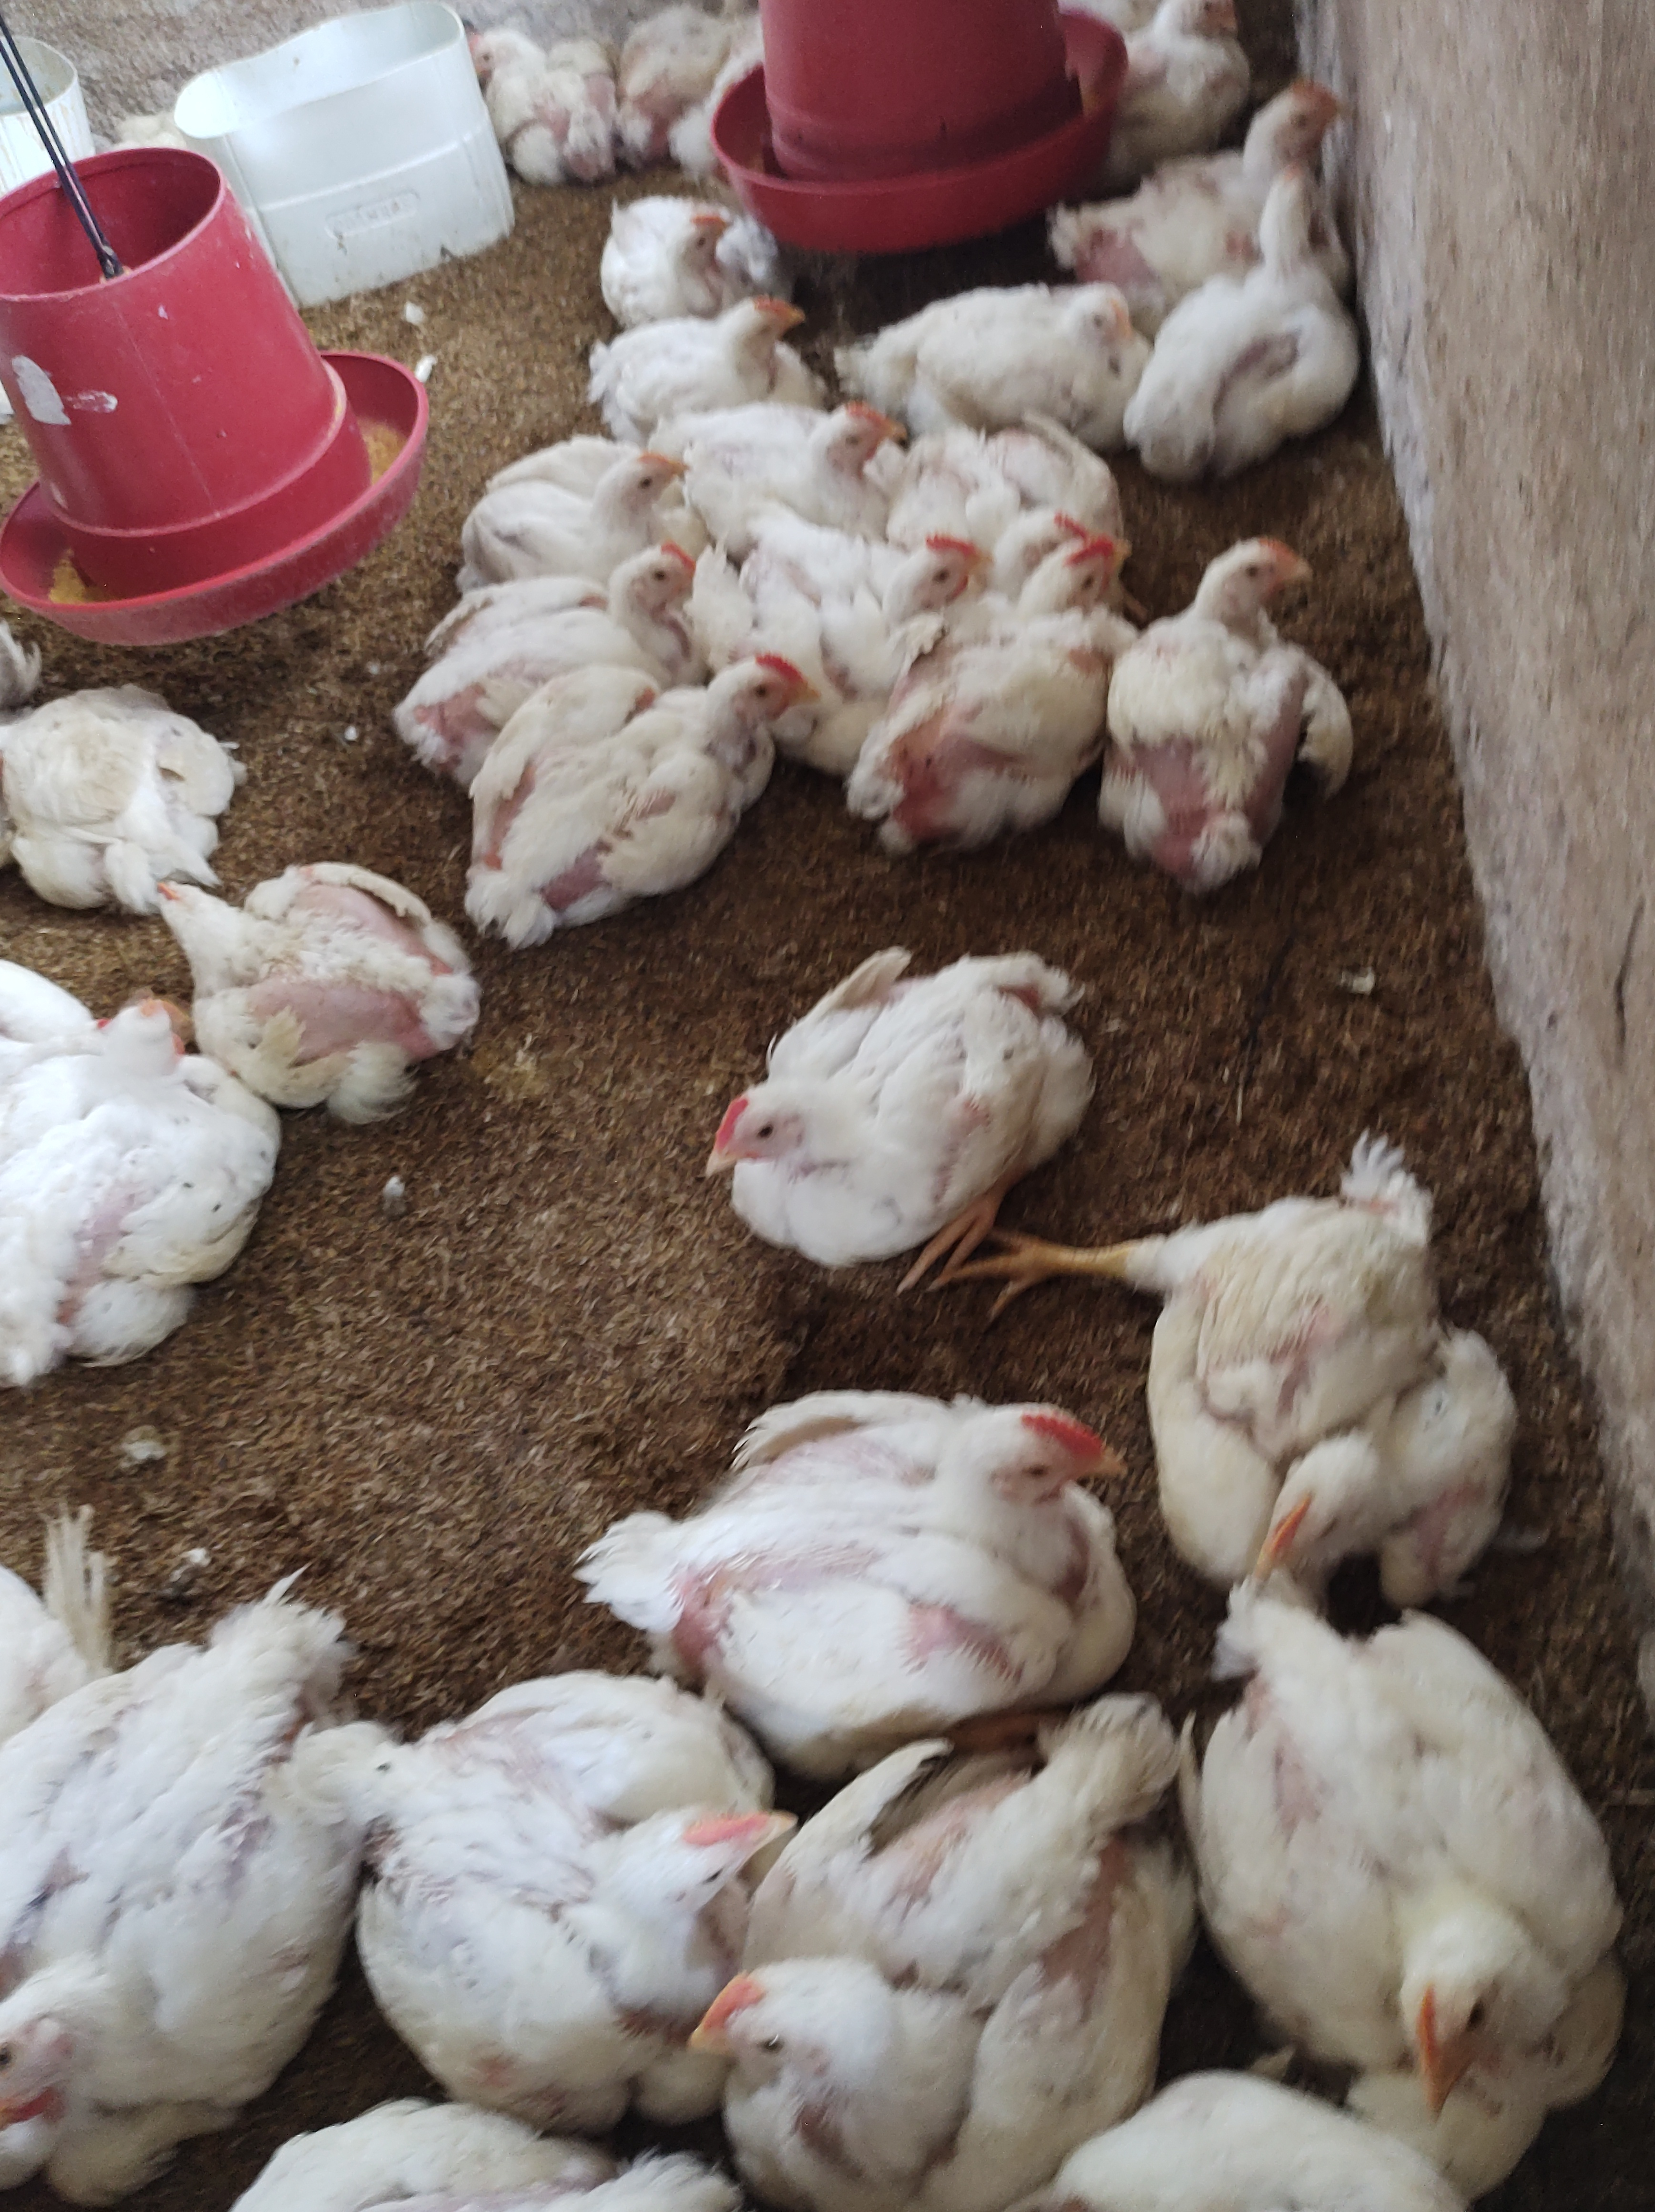Pollos: (1173, 1588, 1652, 2085), (0, 1610, 362, 2212), (697, 1751, 1186, 2193), (600, 1358, 1137, 1702), (1153, 1174, 1516, 1610), (701, 922, 1120, 1280), (353, 1678, 784, 2017), (0, 986, 257, 1367), (473, 657, 807, 949), (1130, 511, 1359, 889), (144, 868, 492, 1097), (861, 541, 1114, 849), (1149, 165, 1344, 470), (0, 680, 247, 920), (454, 536, 702, 710), (866, 259, 1147, 412), (478, 407, 683, 583), (676, 386, 914, 515), (449, 14, 614, 172), (1125, 3, 1300, 136), (628, 285, 821, 403), (1201, 75, 1368, 200), (595, 183, 756, 303), (836, 516, 986, 612), (1027, 457, 1125, 558)
